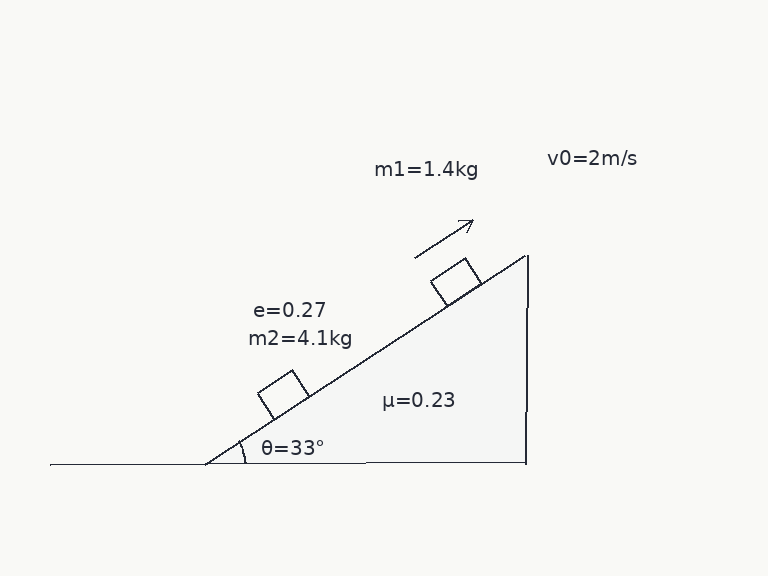block: (427, 256, 483, 308), (255, 368, 311, 420)
ramp: (203, 253, 527, 465)
